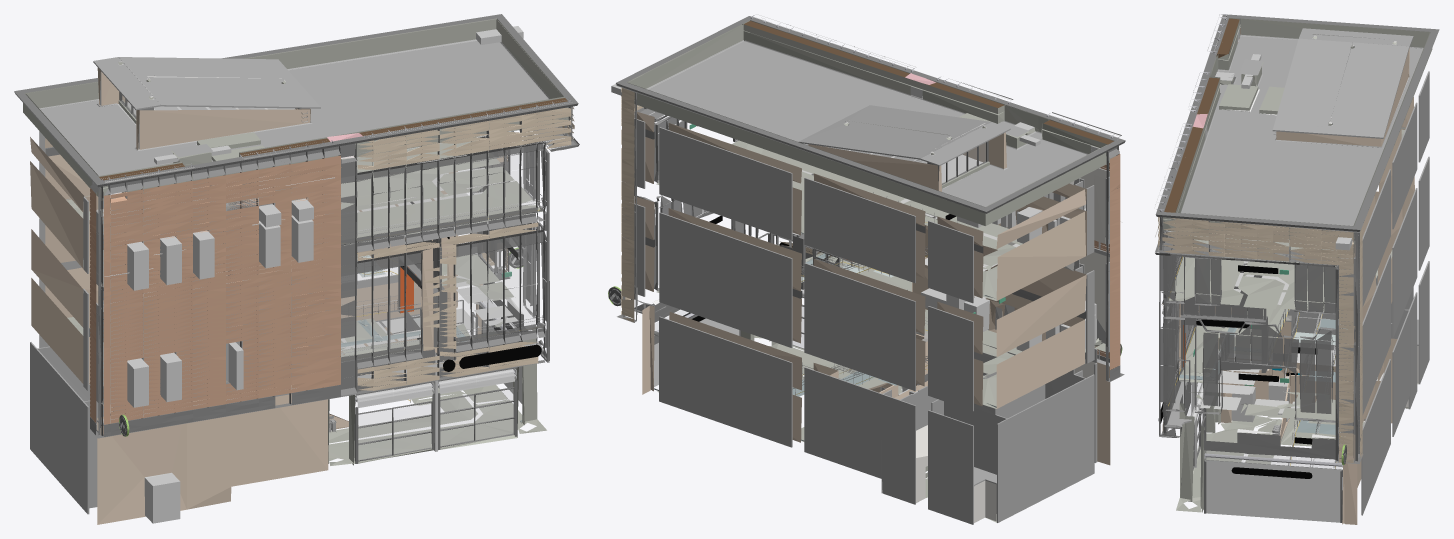
Rendered from e15-architecture-web-ue-3.glb.
3 views of the same model, side by side, from view 1: azimuth 30°, elevation 25°; view 2: azimuth 150°, elevation 25°; view 3: azimuth 270°, elevation 25° (orthographic). The views are drawn at different scales.
Size of what is drawn, in the model's own units: 38.78 by 28.21 by 20.9.
